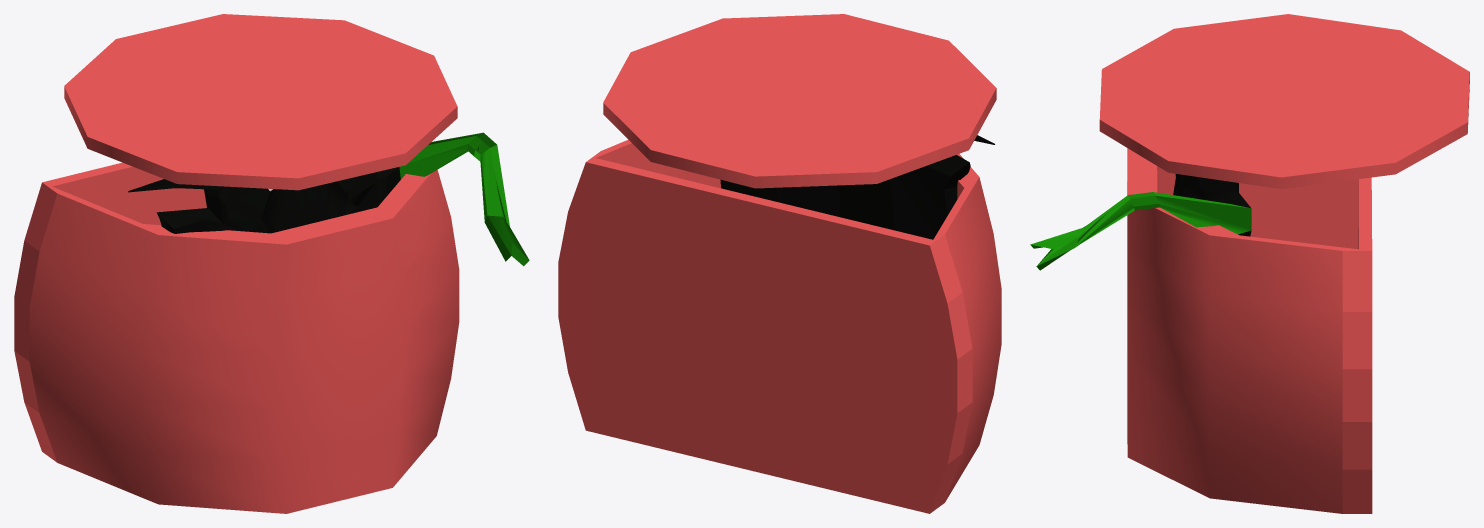
File: barel goblin.FBX
3 renders of one model, left to right at view 1: azimuth 30°, elevation 25°; view 2: azimuth 150°, elevation 25°; view 3: azimuth 270°, elevation 25°, orthographic. The views are drawn at different scales.
Visible parts, largest first — view 1: Tube001, Box001; view 2: Tube001, Box001; view 3: Tube001, Box001.
Boxes of the visible parts, <box> form: Tube001: <box>14,14,459,513</box>; Box001: <box>128,132,529,266</box>; Tube001: <box>558,14,1001,513</box>; Box001: <box>720,135,994,239</box>; Tube001: <box>1099,14,1469,513</box>; Box001: <box>1030,174,1251,270</box>.
Size of the model in its own units: 152 by 125 by 148.
